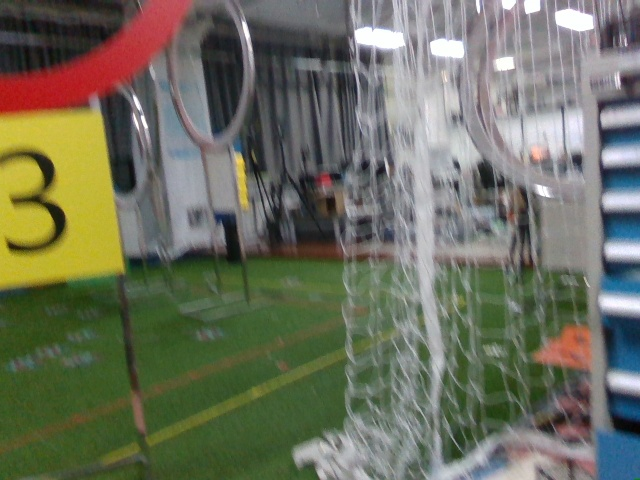target: (7, 121, 108, 279)
